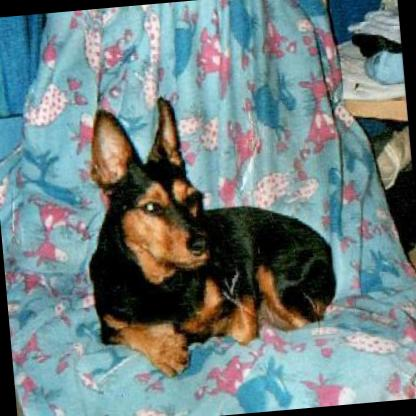Doberman: (72, 78, 344, 386)
